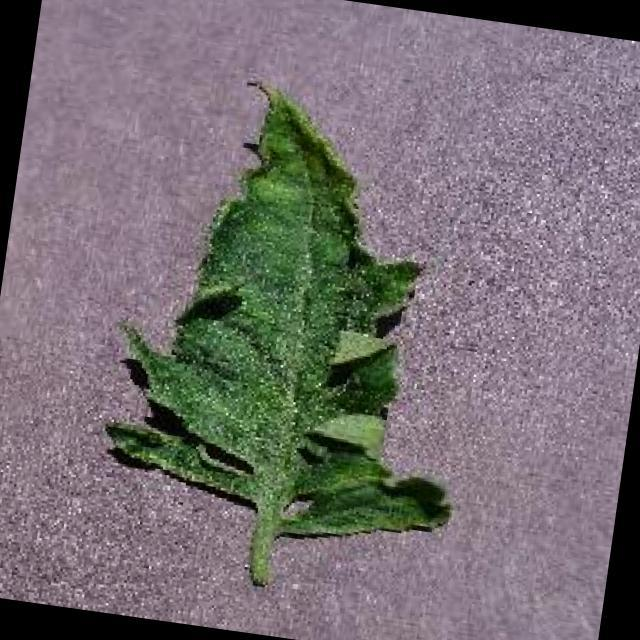Tomato mosaic virus leaf: (89, 61, 513, 566)
